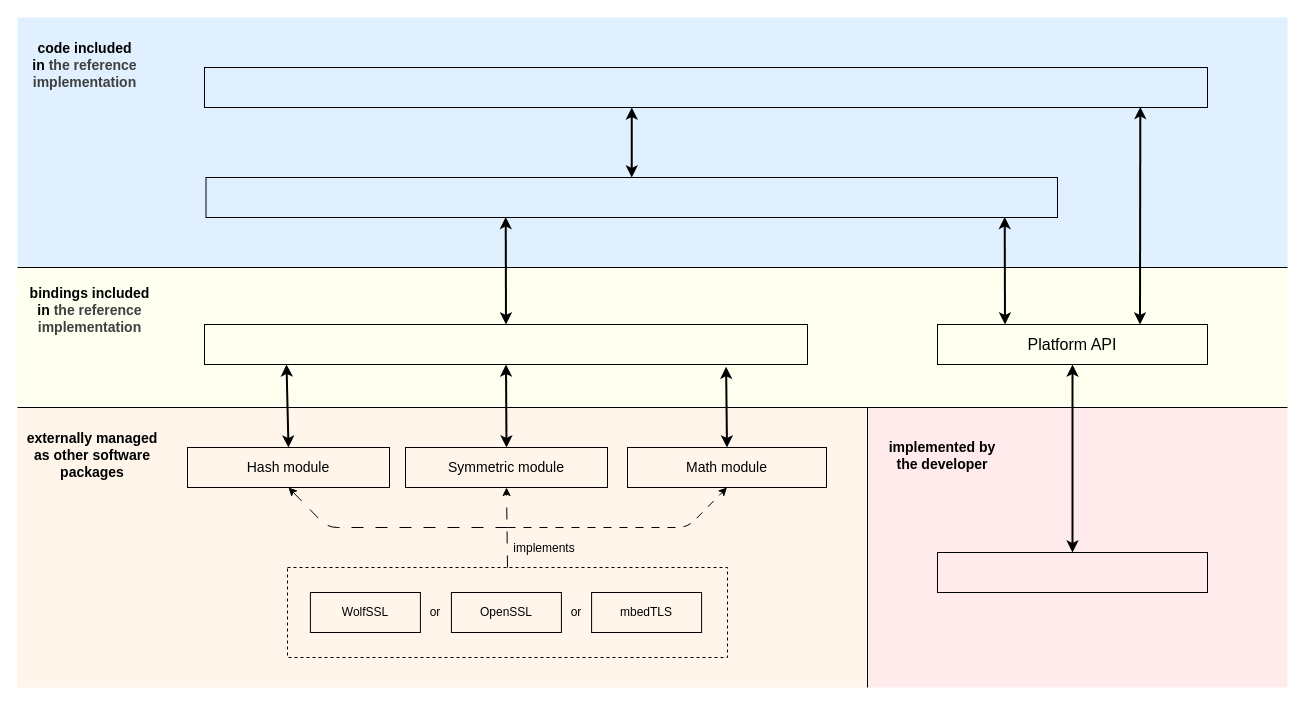
This 1307x706 diagram has some shape labels left out. Here are the shapes that lost their labels. From the top down, the centre of each, then its label:
pixel 706 87: Protocol module
pixel 631 197: TPM 2.0 Core module
pixel 506 344: Crypto API
pixel 1072 572: Platform module
